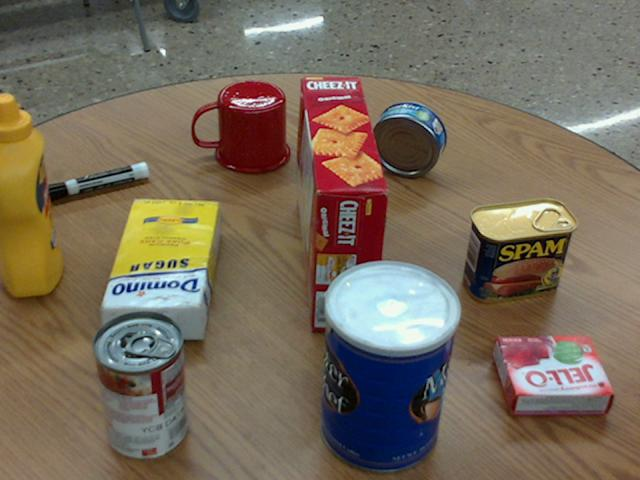cracker_box: (298, 77, 389, 329)
gelatin_box: (495, 335, 613, 414)
large_marker: (41, 161, 148, 199)
master_chef_can: (320, 261, 459, 473)
mug: (193, 81, 289, 173)
mustard_bottle: (0, 94, 61, 294)
potted_meat_can: (463, 198, 576, 302)
sugar_box: (99, 197, 219, 340)
tomato_soup_can: (90, 311, 186, 458)
tuna_fish_can: (369, 101, 444, 176)
